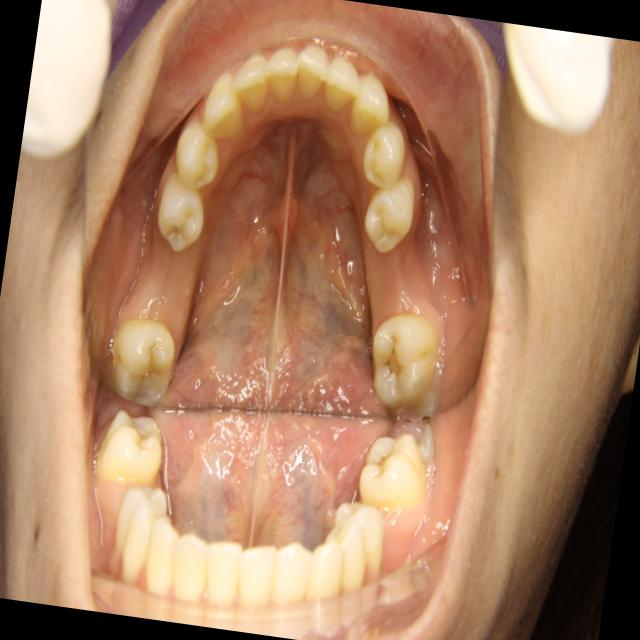tooth: (355, 303, 450, 420), (103, 312, 188, 417), (354, 172, 429, 263), (150, 168, 215, 257), (167, 111, 233, 197), (192, 61, 256, 149), (351, 112, 415, 193), (345, 66, 396, 147), (319, 48, 368, 125), (226, 46, 278, 117), (290, 38, 336, 105), (260, 41, 303, 109)
